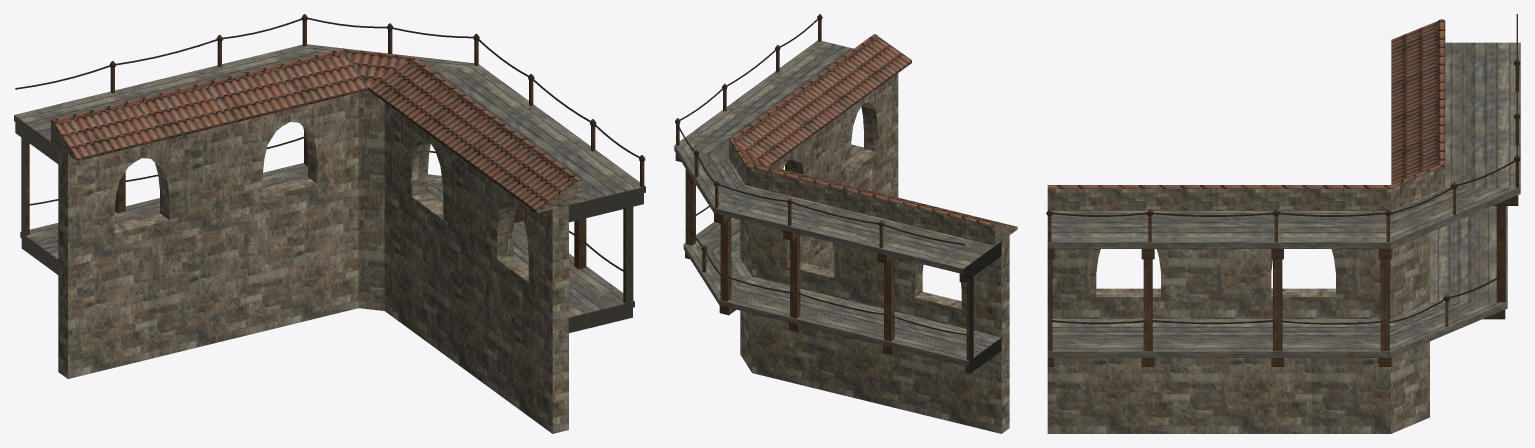
The model's file is FortWallCornerR1.dae.
3 views of the same model, side by side, from view 1: azimuth 30°, elevation 25°; view 2: azimuth 150°, elevation 25°; view 3: azimuth 270°, elevation 25° (orthographic). The views are drawn at different scales.
Parts seen in each view (by area): view 1: forts_stone_copy35-0; view 2: forts_stone_copy35-0; view 3: forts_stone_copy35-0.
Boxes of the visible parts, x1,y1,x2,y2 form: forts_stone_copy35-0: (14, 14, 645, 433); forts_stone_copy35-0: (674, 14, 1017, 433); forts_stone_copy35-0: (1046, 14, 1520, 433).
Size of the model in its own units: 14.63 by 8.92 by 14.65.
